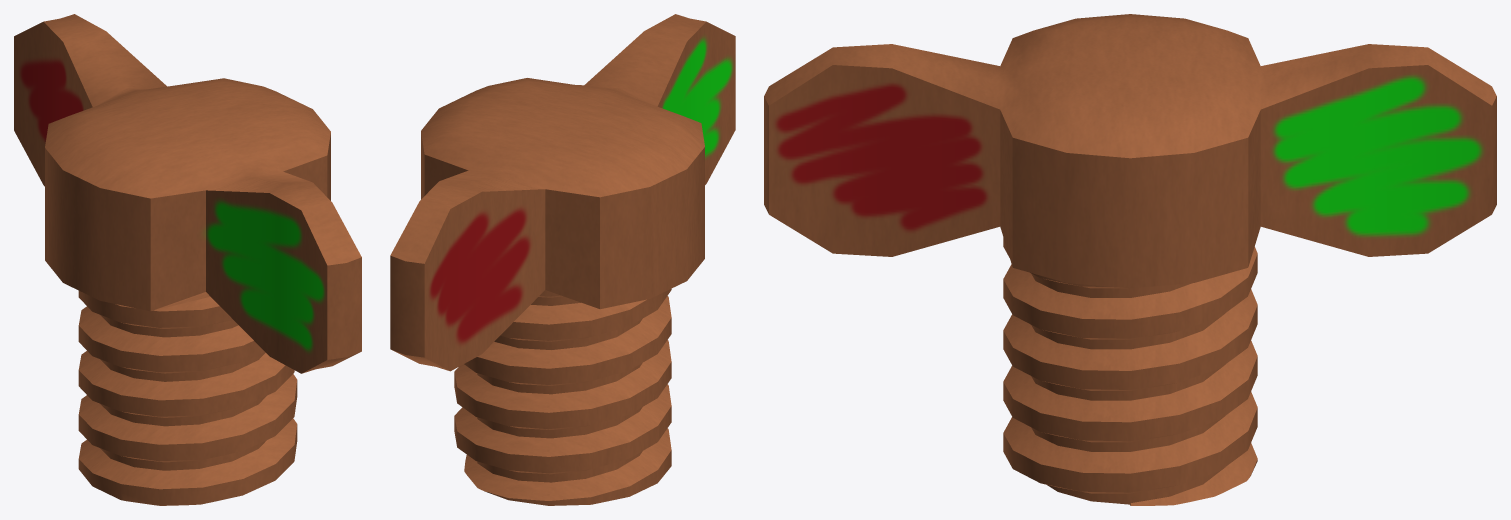
Rendered from Ventil.fbx.
3 renders of one model, left to right at view 1: azimuth 30°, elevation 25°; view 2: azimuth 150°, elevation 25°; view 3: azimuth 270°, elevation 25°, orthographic. The views are drawn at different scales.
Parts seen in each view (by area): view 1: Cylinder; view 2: Cylinder; view 3: Cylinder.
Part boxes in pixels (x1,y1,x2,y2): Cylinder: (14, 14, 361, 505); Cylinder: (390, 14, 735, 505); Cylinder: (764, 14, 1496, 505).
Size of the model in its own units: 3.24 by 7.13 by 4.35.
1 material, 1 textured.
